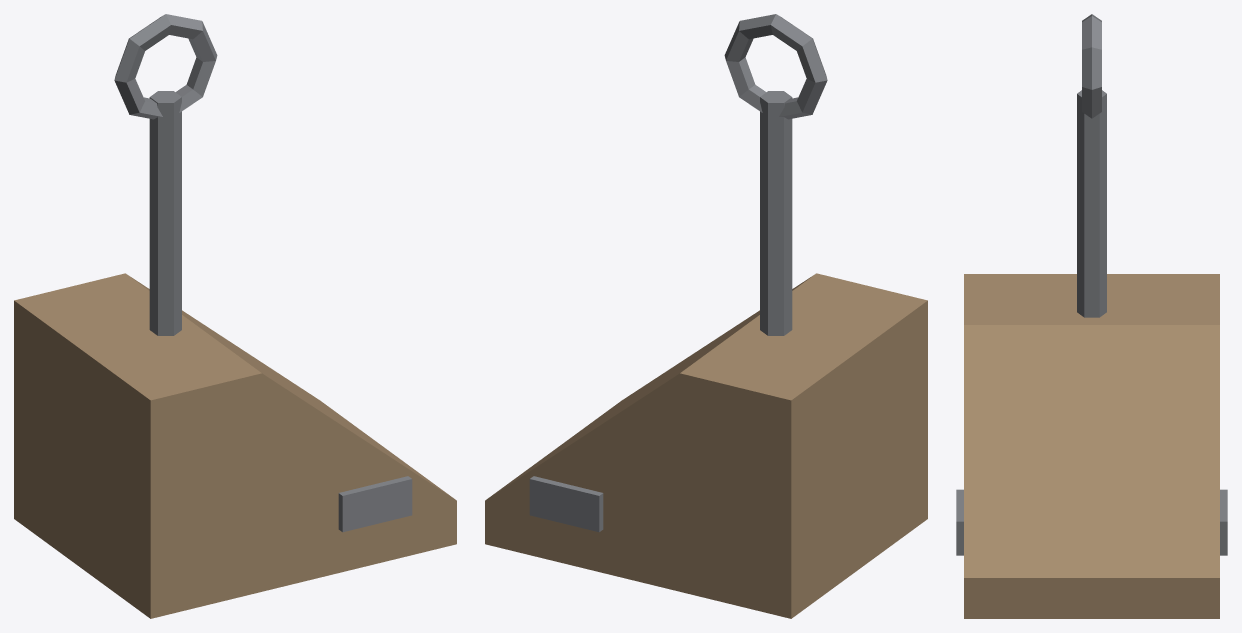
The model's file is steam-era-railway-and-rolling-stock-wheel-chock-f50bd511.glb.
3 renders of one model, left to right at view 1: azimuth 30°, elevation 25°; view 2: azimuth 150°, elevation 25°; view 3: azimuth 270°, elevation 25°, orthographic. The views are drawn at different scales.
Visible parts, largest first — view 1: wheel-chock; view 2: wheel-chock; view 3: wheel-chock.
Boxes of the visible parts, <box> form: wheel-chock: <box>14,14,456,618</box>; wheel-chock: <box>485,14,927,618</box>; wheel-chock: <box>956,14,1227,618</box>.
Bounding box in the file's own units: 0.44 × 0.734 × 0.36.
